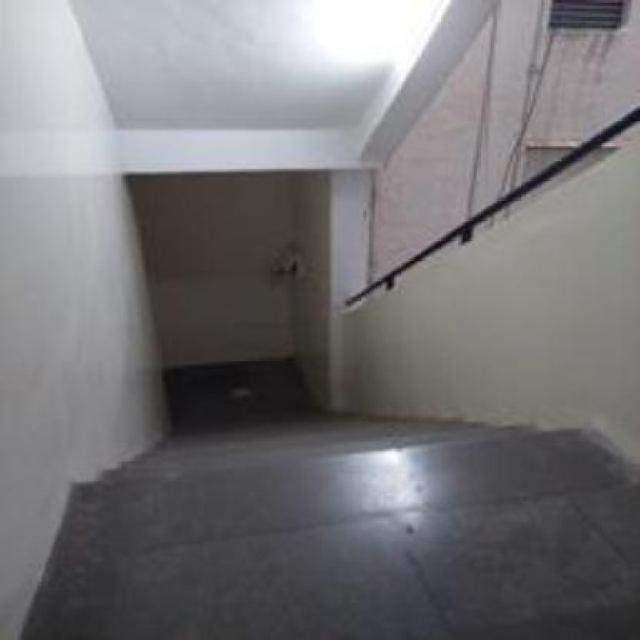stair: (76, 402, 578, 487)
